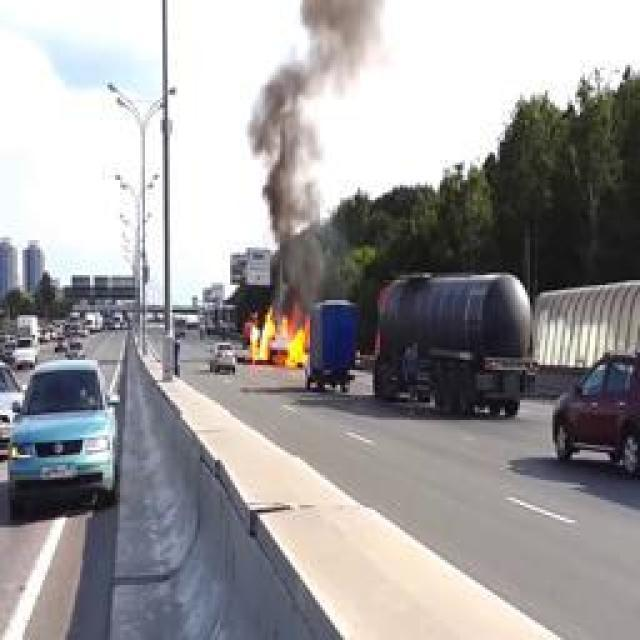Fire: (248, 309, 312, 369)
